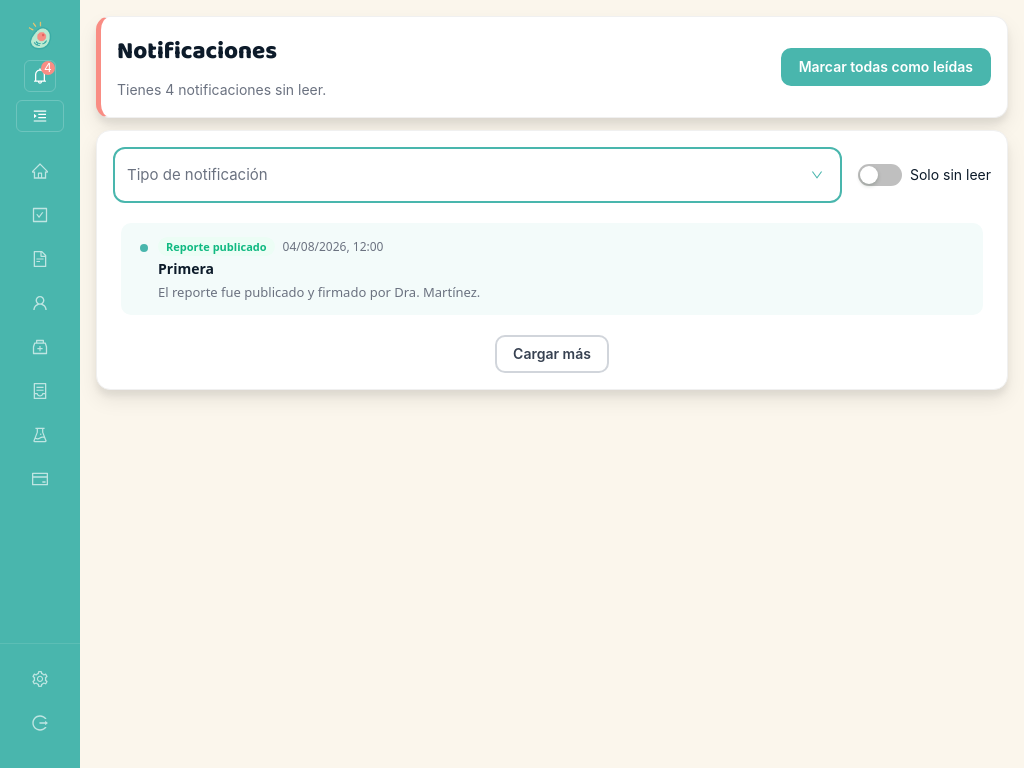
Test: cursor paging › passes the opaque cursor back verbatim and appends the page
Expected: the text "Primera" is shown, [158,259,214,278]
Click the button "Cargar más" at (552, 354), box [495,335,609,373]
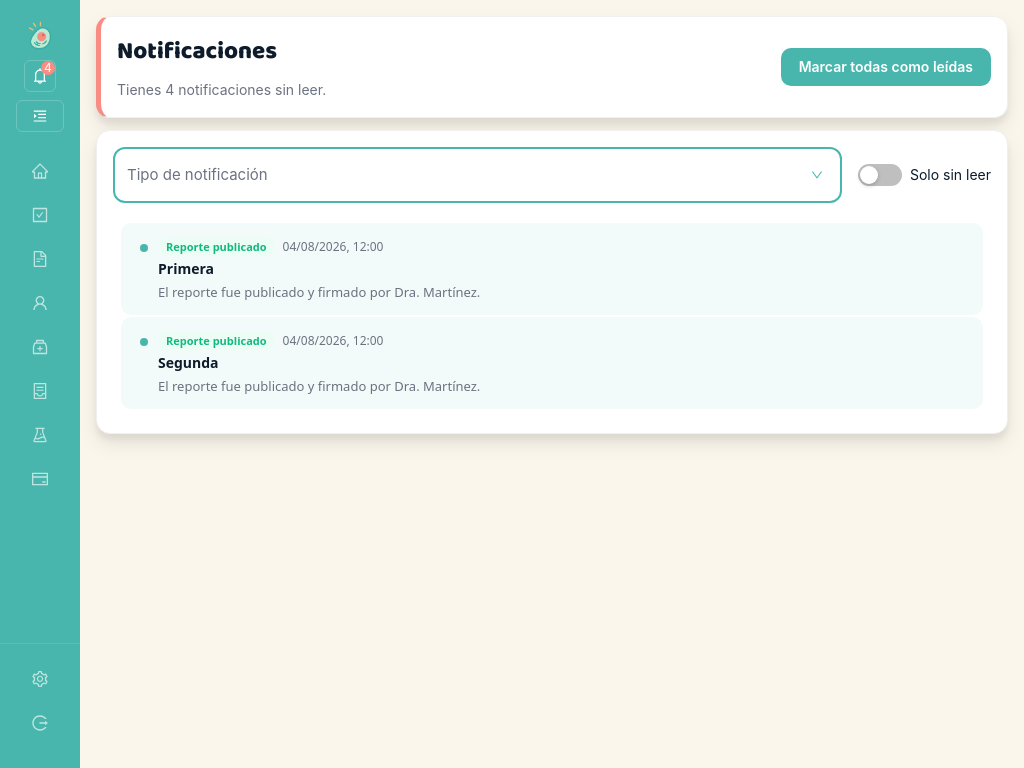
Expected: the text "Primera" is shown, [158,259,214,278]
Expected: the text "Segunda" is shown, [158,353,219,372]
